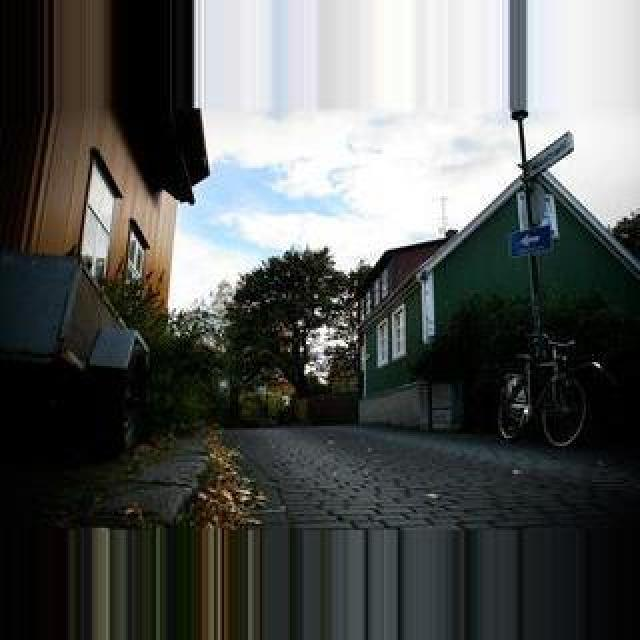Person: (498, 333, 594, 447)
